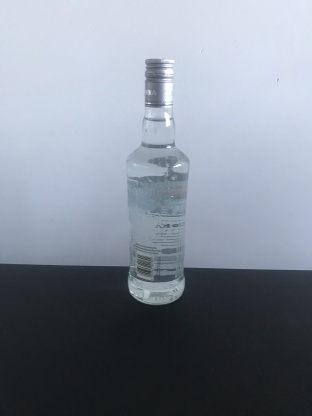nakretka: (143, 55, 175, 110)
